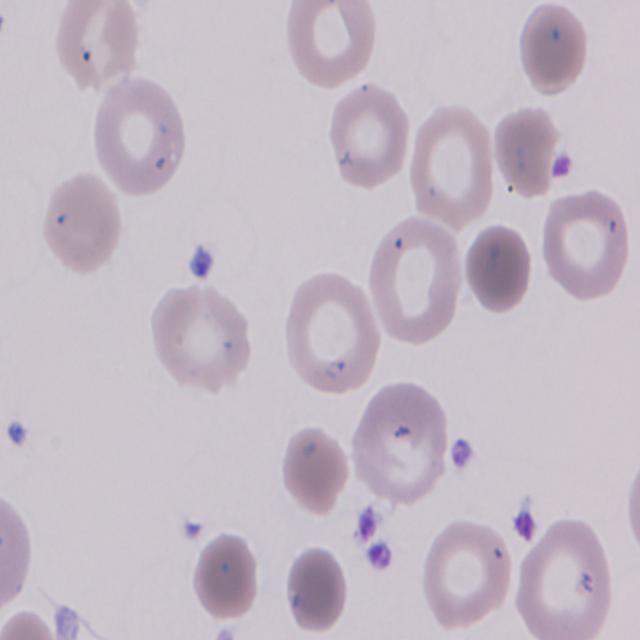Platelets: (187, 241, 218, 285)
RBC: (351, 376, 454, 524), (364, 215, 464, 350), (280, 270, 382, 399), (510, 516, 614, 640), (90, 75, 188, 199), (408, 102, 500, 233), (152, 282, 252, 394), (418, 517, 512, 635), (538, 194, 630, 304), (329, 79, 412, 193), (39, 169, 126, 277), (282, 0, 378, 93), (54, 0, 144, 95), (0, 491, 35, 619), (625, 430, 640, 603)
Spherocyte: (276, 420, 352, 526), (516, 0, 592, 99), (460, 220, 537, 316), (188, 529, 264, 625), (283, 545, 351, 634), (0, 608, 60, 640)
